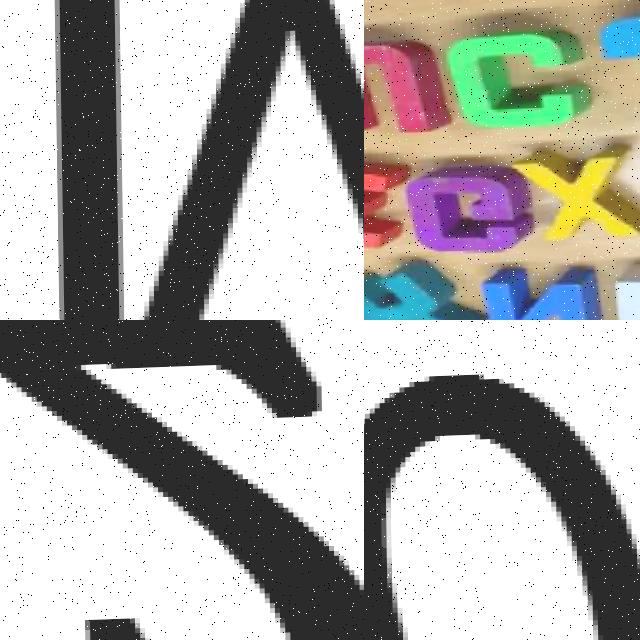0: (364, 370, 640, 640)
2: (0, 320, 364, 640)
C: (432, 21, 602, 139)
G: (405, 160, 537, 261)
J: (611, 1, 640, 115)
K: (364, 258, 476, 320)
M: (42, 0, 364, 320)
N: (465, 263, 606, 320)
X: (515, 146, 640, 244)
